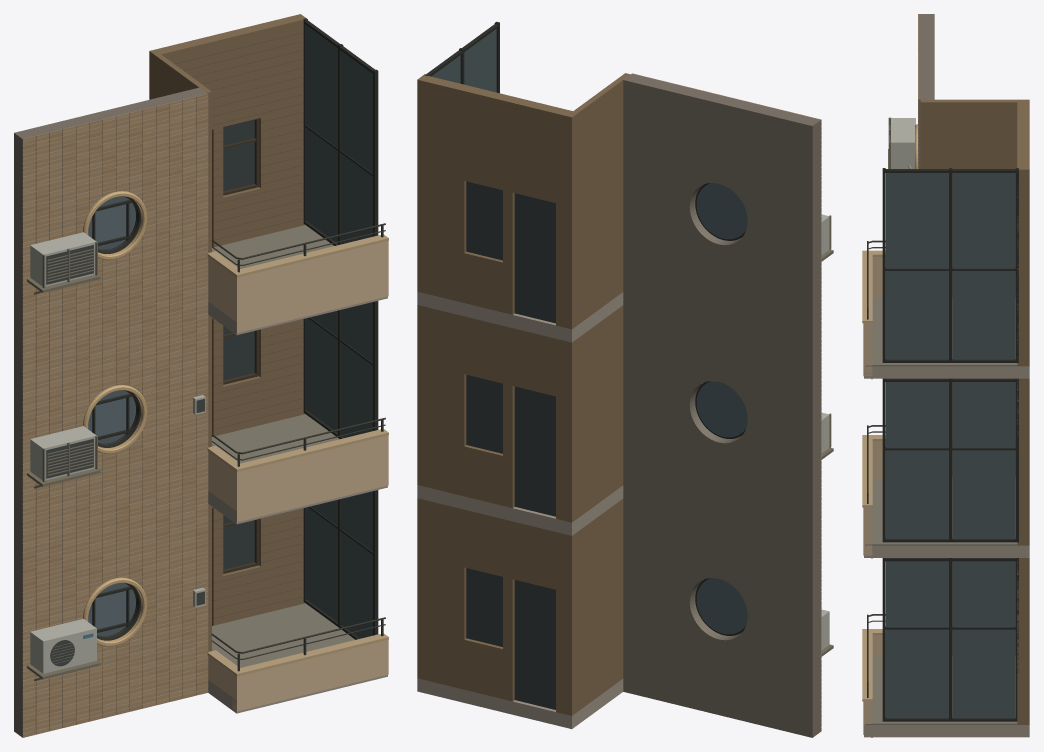
The model's file is huangpu-xile-apartments-maoming-portholes-raw.glb.
The picture shows the model from 3 angles, left to right: view 1: azimuth 30°, elevation 25°; view 2: azimuth 150°, elevation 25°; view 3: azimuth 270°, elevation 25°; orthographic projection. The views are drawn at different scales.
Visible parts, largest first — view 1: 希勒公寓茂名南路三层圆窗与悬挑阳台; view 2: 希勒公寓茂名南路三层圆窗与悬挑阳台; view 3: 希勒公寓茂名南路三层圆窗与悬挑阳台.
Boxes of the visible parts, x1,y1,x2,y2 form: 希勒公寓茂名南路三层圆窗与悬挑阳台: [14, 14, 388, 737]; 希勒公寓茂名南路三层圆窗与悬挑阳台: [417, 21, 833, 737]; 希勒公寓茂名南路三层圆窗与悬挑阳台: [862, 14, 1029, 737].
Bounding box in the file's own units: 5.98 × 10.17 × 2.71.
